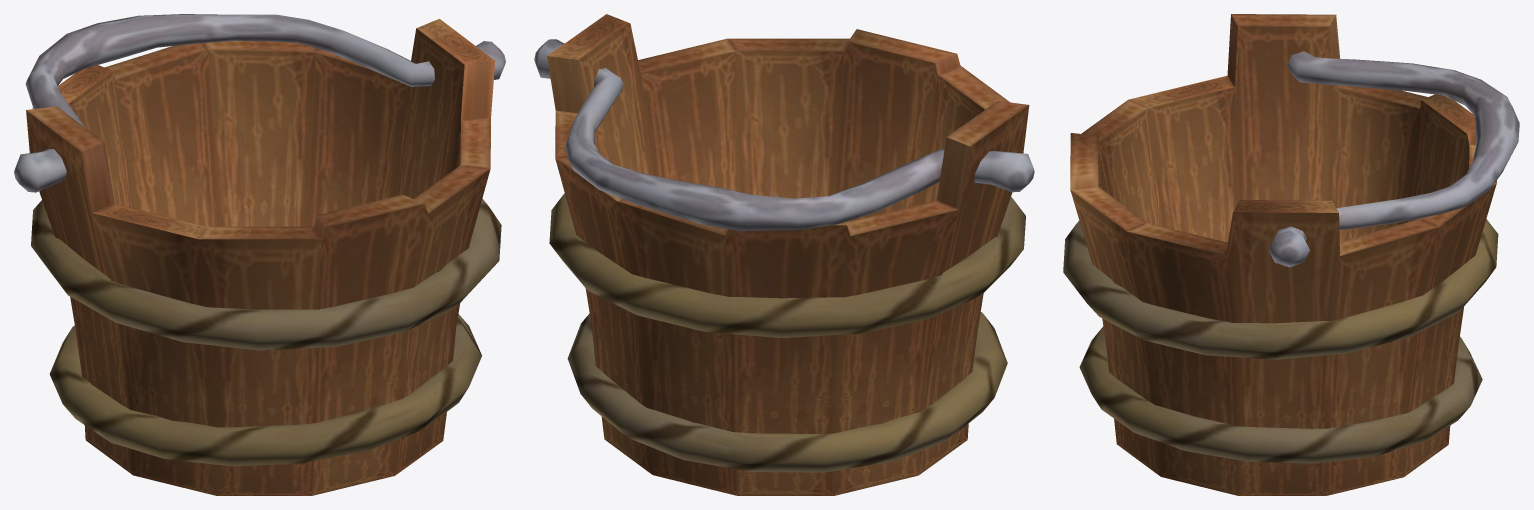
Rendered from bucket_wood.glb.
3 renders of one model, left to right at view 1: azimuth 30°, elevation 25°; view 2: azimuth 150°, elevation 25°; view 3: azimuth 270°, elevation 25°, orthographic. The views are drawn at different scales.
Parts seen in each view (by area): view 1: Bucket_Wooden_1; view 2: Bucket_Wooden_1; view 3: Bucket_Wooden_1.
Part boxes in pixels (bbox=[...]): Bucket_Wooden_1: bbox=[14, 14, 505, 495]; Bucket_Wooden_1: bbox=[534, 14, 1034, 495]; Bucket_Wooden_1: bbox=[1063, 14, 1519, 495].
Size of the model in its own units: 0.4339 by 0.2928 by 0.3834.
2 materials, 2 textured.
